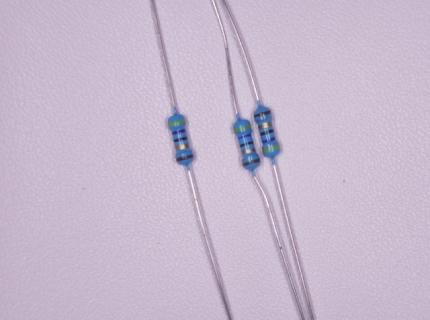Black band: (240, 142, 254, 148), (260, 130, 274, 136), (173, 137, 187, 142)
Brown band: (242, 159, 260, 166), (254, 111, 271, 118), (177, 155, 193, 162)
Gold band: (175, 143, 189, 151), (258, 122, 272, 129), (242, 148, 255, 154)
Violet band: (172, 129, 186, 135), (262, 137, 276, 143), (238, 133, 251, 139)
Yellow band: (263, 145, 280, 153), (168, 120, 186, 127), (234, 125, 251, 132)
